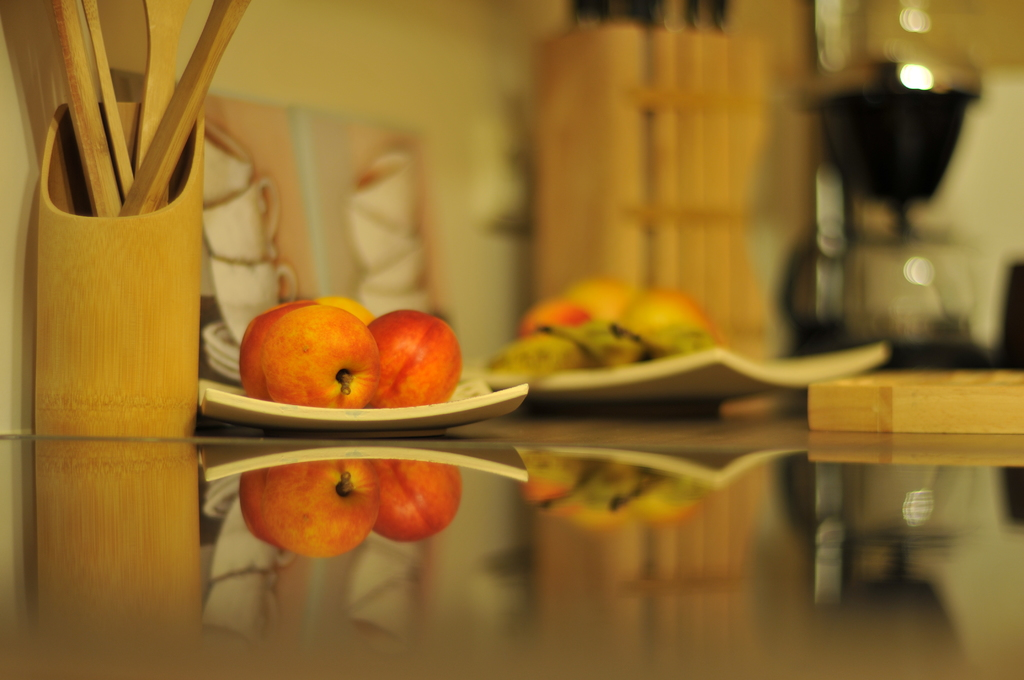Apple: (364, 312, 462, 407), (241, 299, 315, 400), (611, 284, 719, 345), (517, 295, 598, 333), (563, 279, 631, 321), (312, 293, 373, 327)
